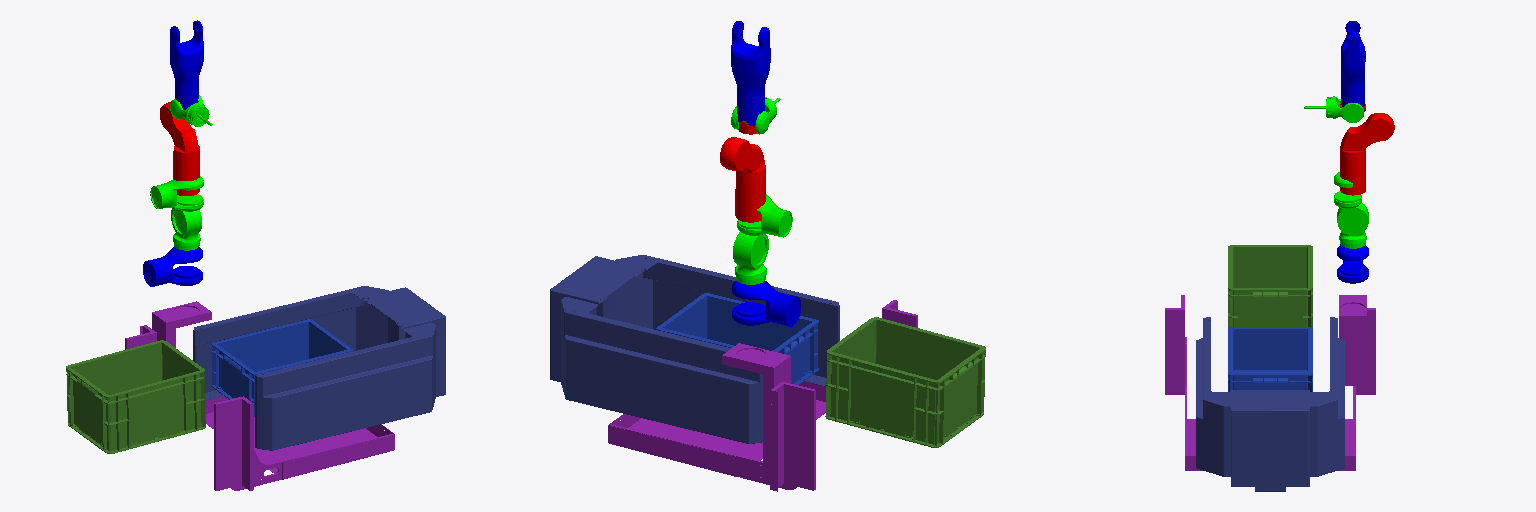
The robot description file, URDF, robot "E1-PRO_EVT2.0_V12_260730":
<?xml version="1.0" encoding="utf-8"?>
<!-- This URDF was automatically created by SolidWorks to URDF Exporter! Originally created by Stephen Brawner (brawner@gmail.com) 
     Commit Version: 1.6.0-4-g7f85cfe  Build Version: 1.6.7995.38578
     For more information, please see http://wiki.ros.org/sw_urdf_exporter -->
<robot
  name="E1-PRO_EVT2.0_V12_260730">
  <link
    name="base_link">
    <inertial>
      <origin
        xyz="-0.10133 0.00050345 1.811"
        rpy="0 0 0" />
      <mass
        value="472.28" />
      <inertia
        ixx="491.67"
        ixy="-3.2459E-05"
        ixz="0.10753"
        iyy="491.76"
        iyz="0.0013991"
        izz="2.7913" />
    </inertial>
    <visual>
      <origin
        xyz="0 0 0"
        rpy="0 0 0" />
      <geometry>
        <mesh
          filename="package://E1-PRO_EVT2.0_V12_260730/meshes/base_link.STL" />
      </geometry>
      <material
        name="">
        <color
          rgba="0.92157 0.63529 0.7451 1" />
      </material>
    </visual>
    <collision>
      <origin
        xyz="0 0 0"
        rpy="0 0 0" />
      <geometry>
        <mesh
          filename="package://E1-PRO_EVT2.0_V12_260730/meshes/base_link.STL" />
      </geometry>
    </collision>
  </link>
  <link
    name="platform_link">
    <inertial>
      <origin
        xyz="0.076062 0.11151 1.3066"
        rpy="0 0 0" />
      <mass
        value="34.753" />
      <inertia
        ixx="0.40542"
        ixy="-5.8606E-07"
        ixz="-0.0089709"
        iyy="0.62626"
        iyz="3.6497E-07"
        izz="0.47787" />
    </inertial>
    <visual>
      <origin
        xyz="0 0 0"
        rpy="0 0 0" />
      <geometry>
        <mesh
          filename="package://E1-PRO_EVT2.0_V12_260730/meshes/platform_link.STL" />
      </geometry>
      <material
        name="">
        <color
          rgba="0.63922 0.2 0.7451 1" />
      </material>
    </visual>
    <collision>
      <origin
        xyz="0 0 0"
        rpy="0 0 0" />
      <geometry>
        <mesh
          filename="package://E1-PRO_EVT2.0_V12_260730/meshes/platform_link.STL" />
      </geometry>
    </collision>
  </link>
  <joint
    name="platform_joint"
    type="prismatic">
    <origin
      xyz="0 0 0"
      rpy="0 0 0" />
    <parent
      link="base_link" />
    <child
      link="platform_link" />
    <axis
      xyz="0 0 1" />
    <limit
      lower="-1"
      upper="1"
      effort="0"
      velocity="0" />
  </joint>
  <link
    name="arm_base_link">
    <inertial>
      <origin
        xyz="-2.582E-05 -8.4725E-05 0.035177"
        rpy="0 0 0" />
      <mass
        value="4.7258" />
      <inertia
        ixx="0.00543"
        ixy="5.9447E-06"
        ixz="-3.9261E-06"
        iyy="0.0054476"
        iyz="-1.2883E-05"
        izz="0.0052996" />
    </inertial>
    <visual>
      <origin
        xyz="0 0 0"
        rpy="0 0 0" />
      <geometry>
        <mesh
          filename="package://E1-PRO_EVT2.0_V12_260730/meshes/arm_base_link.STL" />
      </geometry>
      <material
        name="">
        <color
          rgba="0.31765 0.24706 0.42353 1" />
      </material>
    </visual>
    <collision>
      <origin
        xyz="0 0 0"
        rpy="0 0 0" />
      <geometry>
        <mesh
          filename="package://E1-PRO_EVT2.0_V12_260730/meshes/arm_base_link.STL" />
      </geometry>
    </collision>
  </link>
  <joint
    name="arm_base_joint"
    type="fixed">
    <origin
      xyz="0.1145 0.2905 1.5345"
      rpy="0 0 -1.5707963" />
    <parent
      link="platform_link" />
    <child
      link="arm_base_link" />
    <axis
      xyz="0 0 0" />
  </joint>
  <link
    name="Link1_L">
    <inertial>
      <origin
        xyz="0.00002347 0.00557150 -0.03075998"
        rpy="0 0 0" />
      <mass
        value="1.9705" />
      <inertia
        ixx="0.00492293"
        ixy="0.00000550"
        ixz="0.00000193"
        iyy="0.00526513"
        iyz="0.00033232"
        izz="0.00188107" />
    </inertial>
    <visual>
      <origin
        xyz="0 0 0"
        rpy="0 0 0" />
      <geometry>
        <mesh
          filename="package://E1-PRO_EVT2.0_V12_260730/meshes/Link1_L.STL" />
      </geometry>
      <material
        name="">
        <color
          rgba="0 1 0 1" />
      </material>
    </visual>
    <collision>
      <origin
        xyz="0 0 0"
        rpy="0 0 0" />
      <geometry>
        <mesh
          filename="package://E1-PRO_EVT2.0_V12_260730/meshes/Link1_L.STL" />
      </geometry>
    </collision>
  </link>
  <joint
    name="Joint1_L"
    type="revolute">
    <origin
      xyz="0 0 0.1745"
      rpy="0 0 0" />
    <parent
      link="arm_base_link" />
    <child
      link="Link1_L" />
    <axis
      xyz="0 0 1" />
    <limit
      lower="-3.1067"
      upper="3.1067"
      effort="108"
      velocity="3.1416" />
  </joint>
  <link
    name="Link2_L">
    <inertial>
      <origin
        xyz="0.00013483 0.06170460 0.00950639"
        rpy="0 0 0" />
      <mass
        value="2.24398" />
      <inertia
        ixx="0.01194933"
        ixy="0.00000336"
        ixz="0.00000091"
        iyy="0.00361581"
        iyz="-0.00132804"
        izz="0.01098356" />
    </inertial>
    <visual>
      <origin
        xyz="0 0 0"
        rpy="0 0 0" />
      <geometry>
        <mesh
          filename="package://E1-PRO_EVT2.0_V12_260730/meshes/Link2_L.STL" />
      </geometry>
      <material
        name="">
        <color
          rgba="0 0 1 1" />
      </material>
    </visual>
    <collision>
      <origin
        xyz="0 0 0"
        rpy="0 0 0" />
      <geometry>
        <mesh
          filename="package://E1-PRO_EVT2.0_V12_260730/meshes/Link2_L.STL" />
      </geometry>
    </collision>
  </link>
  <joint
    name="Joint2_L"
    type="revolute">
    <origin
      xyz="0 0 0"
      rpy="1.5708 0 0" />
    <parent
      link="Link1_L" />
    <child
      link="Link2_L" />
    <axis
      xyz="0 0 1" />
    <limit
      lower="-2.0944"
      upper="2.0944"
      effort="108"
      velocity="3.1416" />
  </joint>
  <link
    name="Link3_L">
    <inertial>
      <origin
        xyz="0.00968562 0.00246599 -0.04627302"
        rpy="0 0 0" />
      <mass
        value="1.9242" />
      <inertia
        ixx="0.00718224"
        ixy="0.00004413"
        ixz="0.00089552"
        iyy="0.00762563"
        iyz="0.00022096"
        izz="0.00178597" />
    </inertial>
    <visual>
      <origin
        xyz="0 0 0"
        rpy="0 0 0" />
      <geometry>
        <mesh
          filename="package://E1-PRO_EVT2.0_V12_260730/meshes/Link3_L.STL" />
      </geometry>
      <material
        name="">
        <color
          rgba="1 0 0 1" />
      </material>
    </visual>
    <collision>
      <origin
        xyz="0 0 0"
        rpy="0 0 0" />
      <geometry>
        <mesh
          filename="package://E1-PRO_EVT2.0_V12_260730/meshes/Link3_L.STL" />
      </geometry>
    </collision>
  </link>
  <joint
    name="Joint3_L"
    type="revolute">
    <origin
      xyz="0 0.287 0"
      rpy="-1.5708 0 0" />
    <parent
      link="Link2_L" />
    <child
      link="Link3_L" />
    <axis
      xyz="0 0 1" />
    <limit
      lower="-3.1067"
      upper="3.1067"
      effort="66"
      velocity="3.1416" />
  </joint>
  <link
    name="Link4_L">
    <inertial>
      <origin
        xyz="0.00850411 -0.04718223 0.00941509"
        rpy="0 0 0" />
      <mass
        value="1.6085" />
      <inertia
        ixx="0.00580480"
        ixy="-0.00066669"
        ixz="-0.00012722"
        iyy="0.00223807"
        iyz="0.00070523"
        izz="0.00533060" />
    </inertial>
    <visual>
      <origin
        xyz="0 0 0"
        rpy="0 0 0" />
      <geometry>
        <mesh
          filename="package://E1-PRO_EVT2.0_V12_260730/meshes/Link4_L.STL" />
      </geometry>
      <material
        name="">
        <color
          rgba="0 1 0 1" />
      </material>
    </visual>
    <collision>
      <origin
        xyz="0 0 0"
        rpy="0 0 0" />
      <geometry>
        <mesh
          filename="package://E1-PRO_EVT2.0_V12_260730/meshes/Link4_L.STL" />
      </geometry>
    </collision>
  </link>
  <joint
    name="Joint4_L"
    type="revolute">
    <origin
      xyz="0.018 0 0"
      rpy="-1.5708 0 3.1416" />
    <parent
      link="Link3_L" />
    <child
      link="Link4_L" />
    <axis
      xyz="0 0 1" />
    <limit
      lower="-2.5307"
      upper="1.0472"
      effort="66"
      velocity="3.1416" />
  </joint>
  <link
    name="Link5_L">
    <inertial>
      <origin
        xyz="0.00051127 0.00101064 -0.11271739"
        rpy="0 0 0" />
      <mass
        value="2.0883" />
      <inertia
        ixx="0.00626603"
        ixy="0.00004009"
        ixz="0.00005338"
        iyy="0.00564387"
        iyz="-0.00006193"
        izz="0.00243632" />
    </inertial>
    <visual>
      <origin
        xyz="0 0 0"
        rpy="0 0 0" />
      <geometry>
        <mesh
          filename="package://E1-PRO_EVT2.0_V12_260730/meshes/Link5_L.STL" />
      </geometry>
      <material
        name="">
        <color
          rgba="0 0 1 1" />
      </material>
    </visual>
    <collision>
      <origin
        xyz="0 0 0"
        rpy="0 0 0" />
      <geometry>
        <mesh
          filename="package://E1-PRO_EVT2.0_V12_260730/meshes/Link5_L.STL" />
      </geometry>
    </collision>
  </link>
  <joint
    name="Joint5_L"
    type="revolute">
    <origin
      xyz="0.018 -0.314 0"
      rpy="-1.5708 0 3.1416" />
    <parent
      link="Link4_L" />
    <child
      link="Link5_L" />
    <axis
      xyz="0 0 1" />
    <limit
      lower="-3.1067"
      upper="3.1067"
      effort="18"
      velocity="3.1416" />
  </joint>
  <link
    name="Link6_L">
    <inertial>
      <origin
        xyz="0.00032659 0.00531336 -0.00030182"
        rpy="0 0 0" />
      <mass
        value="0.72496" />
      <inertia
        ixx="0.00046040"
        ixy="0.00000189"
        ixz="0.00000083"
        iyy="0.00051716"
        iyz="-0.00000346"
        izz="0.00042521" />
    </inertial>
    <visual>
      <origin
        xyz="0 0 0"
        rpy="0 0 0" />
      <geometry>
        <mesh
          filename="package://E1-PRO_EVT2.0_V12_260730/meshes/Link6_L.STL" />
      </geometry>
      <material
        name="">
        <color
          rgba="1 0 0 1" />
      </material>
    </visual>
    <collision>
      <origin
        xyz="0 0 0"
        rpy="0 0 0" />
      <geometry>
        <mesh
          filename="package://E1-PRO_EVT2.0_V12_260730/meshes/Link6_L.STL" />
      </geometry>
    </collision>
  </link>
  <joint
    name="Joint6_L"
    type="revolute">
    <origin
      xyz="0 0 0"
      rpy="1.5708 -1.5708 0" />
    <parent
      link="Link5_L" />
    <child
      link="Link6_L" />
    <axis
      xyz="0 0 1" />
    <limit
      lower="-1.0472"
      upper="1.0472"
      effort="18"
      velocity="3.1416" />
  </joint>
  <link
    name="Link7_L">
    <inertial>
      <origin
        xyz="-0.00009108 -0.03153255 0.00889371"
        rpy="0 0 0" />
      <mass
        value="0.68606" />
      <inertia
        ixx="0.00173687"
        ixy="-0.00000345"
        ixz="-0.00000116"
        iyy="0.00089035"
        iyz="0.00030680"
        izz="0.00139406" />
    </inertial>
    <visual>
      <origin
        xyz="0 0 0"
        rpy="0 0 0" />
      <geometry>
        <mesh
          filename="package://E1-PRO_EVT2.0_V12_260730/meshes/Link7_L.STL" />
      </geometry>
      <material
        name="">
        <color
          rgba="0 1 0 1" />
      </material>
    </visual>
    <collision>
      <origin
        xyz="0 0 0"
        rpy="0 0 0" />
      <geometry>
        <mesh
          filename="package://E1-PRO_EVT2.0_V12_260730/meshes/Link7_L.STL" />
      </geometry>
    </collision>
  </link>
  <joint
    name="Joint7_L"
    type="revolute">
    <origin
      xyz="0 0 0"
      rpy="1.5708 -1.5708 0" />
    <parent
      link="Link6_L" />
    <child
      link="Link7_L" />
    <axis
      xyz="0 0 1" />
    <limit
      lower="-1.5708"
      upper="1.5708"
      effort="18"
      velocity="3.1416" />
  </joint>
  <link
    name="end_effector_link">
    <inertial>
      <origin
        xyz="3.552E-09 0.0082904 -0.070615"
        rpy="0 0 0" />
      <mass
        value="0.27303" />
      <inertia
        ixx="8.0614E-05"
        ixy="-1.6726E-14"
        ixz="2.6139E-13"
        iyy="8.5026E-05"
        iyz="-1.0721E-06"
        izz="0.00011056" />
    </inertial>
    <visual>
      <origin
        xyz="0 0 0"
        rpy="0 0 0" />
      <geometry>
        <mesh
          filename="package://E1-PRO_EVT2.0_V12_260730/meshes/end_effector_link.STL" />
      </geometry>
      <material
        name="">
        <color
          rgba="0.69804 0.69804 0.69804 1" />
      </material>
    </visual>
    <collision>
      <origin
        xyz="0 0 0"
        rpy="0 0 0" />
      <geometry>
        <mesh
          filename="package://E1-PRO_EVT2.0_V12_260730/meshes/end_effector_link.STL" />
      </geometry>
    </collision>
  </link>
  <joint
    name="end_effector_joint"
    type="fixed">
    <origin
      xyz="-0.0083277 -0.17809 0"
      rpy="1.5708 1.5708 0" />
    <parent
      link="Link7_L" />
    <child
      link="end_effector_link" />
    <axis
      xyz="0 0 0" />
  </joint>

  <link
    name="CTU_link">
    <inertial>
      <origin
        xyz="0.1481 0.00028865 0.22331"
        rpy="0 0 0" />
      <mass
        value="7.2262" />
      <inertia
        ixx="0.10321"
        ixy="-5.1492E-06"
        ixz="0.0010512"
        iyy="0.39013"
        iyz="5.0202E-06"
        izz="0.3405" />
    </inertial>
    <visual>
      <origin
        xyz="0 0 0"
        rpy="0 0 0" />
      <geometry>
        <mesh
          filename="package://E1-PRO_EVT2.0_V12_260730/meshes/CTU_link.STL" />
      </geometry>
      <material
        name="">
        <color
          rgba="0.25882 0.29804 0.56471 1" />
      </material>
    </visual>
    <collision>
      <origin
        xyz="0 0 0"
        rpy="0 0 0" />
      <geometry>
        <mesh
          filename="package://E1-PRO_EVT2.0_V12_260730/meshes/CTU_link.STL" />
      </geometry>
    </collision>
  </link>
  <joint
    name="CTU_joint"
    type="revolute">
    <origin
      xyz="0.45457 0 1.1259"
      rpy="0 0 0" />
    <parent
      link="platform_link" />
    <child
      link="CTU_link" />
    <axis
      xyz="0 0 1" />
    <limit
      lower="-3.1416"
      upper="3.1416"
      effort="0"
      velocity="0" />
  </joint>
  <link
    name="box01_link">
    <inertial>
      <origin
        xyz="-3.1918E-06 -1.7891E-06 0.053174"
        rpy="0 0 0" />
      <mass
        value="8.32" />
      <inertia
        ixx="0.1313"
        ixy="-2.3645E-06"
        ixz="-1.4052E-06"
        iyy="0.17321"
        iyz="1.2583E-06"
        izz="0.24418" />
    </inertial>
    <visual>
      <origin
        xyz="0 0 0"
        rpy="0 0 0" />
      <geometry>
        <mesh
          filename="package://E1-PRO_EVT2.0_V12_260730/meshes/box01_link.STL" />
      </geometry>
      <material
        name="">
        <color
          rgba="0.17647 0.3098 0.72157 1" />
      </material>
    </visual>
    <collision>
      <origin
        xyz="0 0 0"
        rpy="0 0 0" />
      <geometry>
        <mesh
          filename="package://E1-PRO_EVT2.0_V12_260730/meshes/box01_link.STL" />
      </geometry>
    </collision>
  </link>
  <joint
    name="box01_joint"
    type="fixed">
    <origin
      xyz="-0.12707 0.00066942 0.1791"
      rpy="0 0 0" />
    <parent
      link="CTU_link" />
    <child
      link="box01_link" />
    <axis
      xyz="0 0 0" />
  </joint>
  <link
    name="box02_link">
    <inertial>
      <origin
        xyz="-0.0017604 1.0445E-05 0.067189"
        rpy="0 0 0" />
      <mass
        value="10.895" />
      <inertia
        ixx="0.18772"
        ixy="-1.5939E-06"
        ixz="-0.0033356"
        iyy="0.26668"
        iyz="2.6689E-06"
        izz="0.31499" />
    </inertial>
    <visual>
      <origin
        xyz="0 0 0"
        rpy="0 0 0" />
      <geometry>
        <mesh
          filename="package://E1-PRO_EVT2.0_V12_260730/meshes/box02_link.STL" />
      </geometry>
      <material
        name="">
        <color
          rgba="0.3098 0.53725 0.21176 1" />
      </material>
    </visual>
    <collision>
      <origin
        xyz="0 0 0"
        rpy="0 0 0" />
      <geometry>
        <mesh
          filename="package://E1-PRO_EVT2.0_V12_260730/meshes/box02_link.STL" />
      </geometry>
    </collision>
  </link>
  <joint
    name="box02_joint"
    type="fixed">
    <origin
      xyz="-0.25162 0.0004972 1.3028"
      rpy="0 0 0" />
    <parent
      link="base_link" />
    <child
      link="box02_link" />
    <axis
      xyz="0 0 0" />
  </joint>
</robot>

--- What the picture shows (computed from the rendered views, not written in the file) ---
3 views of the same robot in one strip: view 1: azimuth 30°, elevation 25°; view 2: azimuth 150°, elevation 25°; view 3: azimuth 270°, elevation 25° (orthographic).
Robot: E1-PRO_EVT2.0_V12_260730 — 14 links, 13 joints (8 revolute, 1 prismatic, 4 fixed); root link base_link; default pose: all joints at 0.
Links seen in each view (by area): view 1: CTU_link, box02_link, platform_link, box01_link, Link5_L, Link3_L, Link2_L, Link4_L, Link1_L, Link7_L; view 2: CTU_link, box02_link, platform_link, box01_link, Link5_L, Link3_L, Link2_L, Link1_L, Link4_L, Link7_L; view 3: CTU_link, box02_link, platform_link, box01_link, Link3_L, Link5_L, Link1_L, Link2_L, Link7_L, Link4_L.
Boxes of the visible links, <box> form: CTU_link: <box>193,286,445,450</box>; box02_link: <box>66,340,205,453</box>; platform_link: <box>125,301,394,490</box>; box01_link: <box>211,319,352,416</box>; Link5_L: <box>170,20,203,109</box>; Link3_L: <box>160,102,199,195</box>; Link2_L: <box>143,247,202,286</box>; Link4_L: <box>150,176,203,211</box>; Link1_L: <box>171,208,201,250</box>; Link7_L: <box>170,95,212,126</box>; CTU_link: <box>550,255,839,443</box>; box02_link: <box>825,317,985,447</box>; platform_link: <box>608,300,917,491</box>; box01_link: <box>656,293,818,384</box>; Link5_L: <box>731,21,770,126</box>; Link3_L: <box>720,137,765,222</box>; Link2_L: <box>732,281,800,326</box>; Link1_L: <box>733,232,768,284</box>; Link4_L: <box>737,194,792,237</box>; Link7_L: <box>731,97,780,134</box>; CTU_link: <box>1196,317,1344,491</box>; box02_link: <box>1228,245,1312,327</box>; platform_link: <box>1165,295,1375,470</box>; box01_link: <box>1228,327,1312,391</box>; Link3_L: <box>1340,113,1394,195</box>; Link5_L: <box>1341,21,1365,108</box>; Link1_L: <box>1337,203,1368,248</box>; Link2_L: <box>1337,244,1368,283</box>; Link7_L: <box>1304,96,1363,122</box>; Link4_L: <box>1334,172,1361,208</box>.
Bounding box of the posed robot: 1.36 × 0.8067 × 1.51 m (x, y, z).
12 mesh visuals loaded from 14 distinct referenced files (12 binary STL); not drawn: 2 (reference not matched to a file when rendering).
